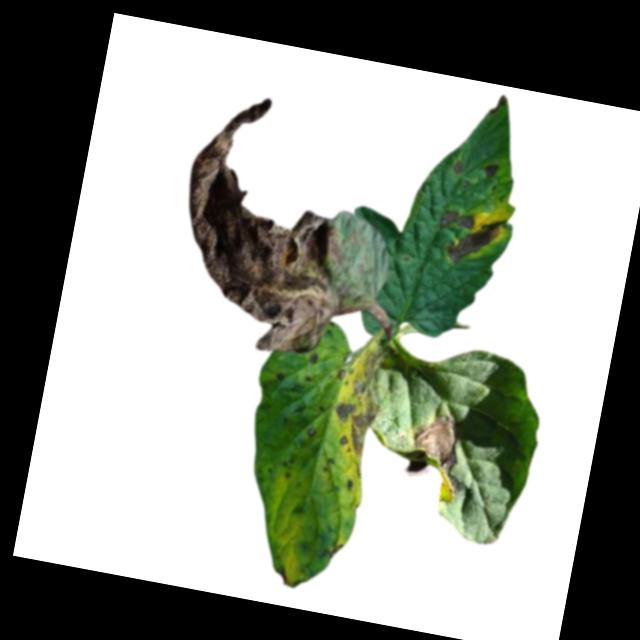Early_blight: (160, 87, 387, 361), (403, 407, 479, 507), (328, 341, 391, 458), (440, 205, 508, 271), (435, 204, 477, 234), (272, 561, 306, 590), (479, 158, 501, 182), (270, 366, 292, 385), (448, 156, 465, 174)
